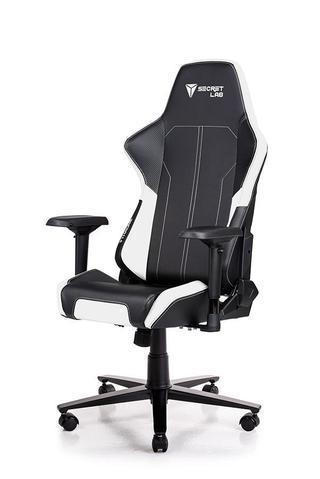chair: (33, 51, 280, 463)
